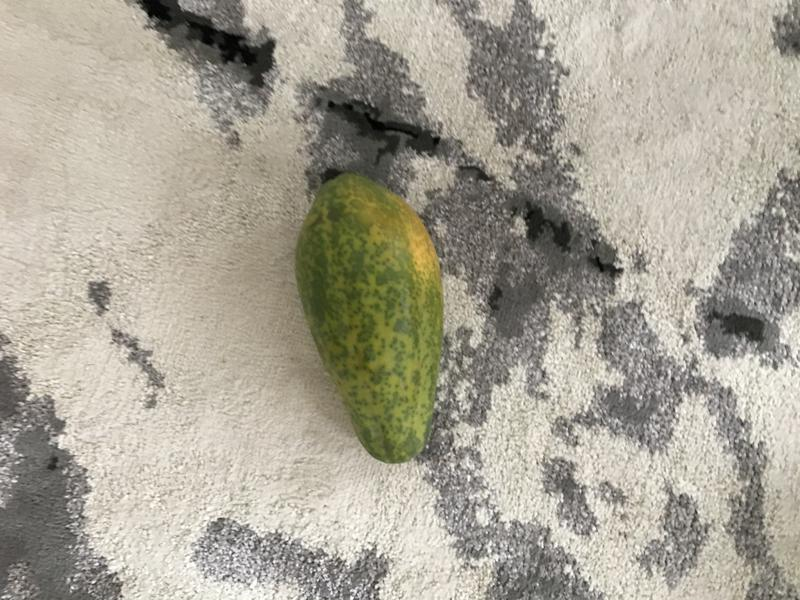papaya: (284, 169, 455, 471)
